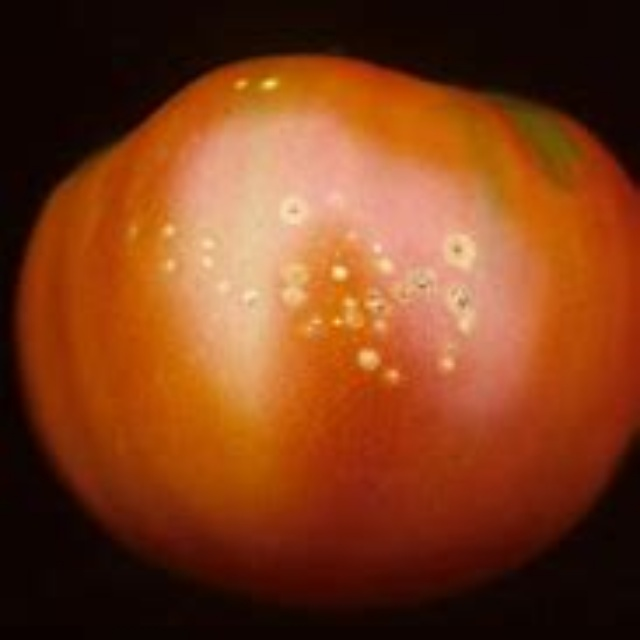tomato: (19, 58, 639, 604)
